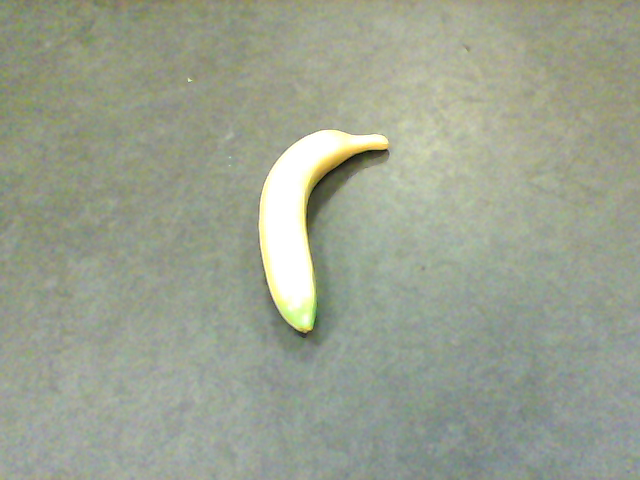banana: (259, 131, 389, 332)
